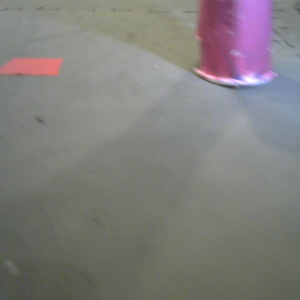right: (192, 1, 277, 87)
